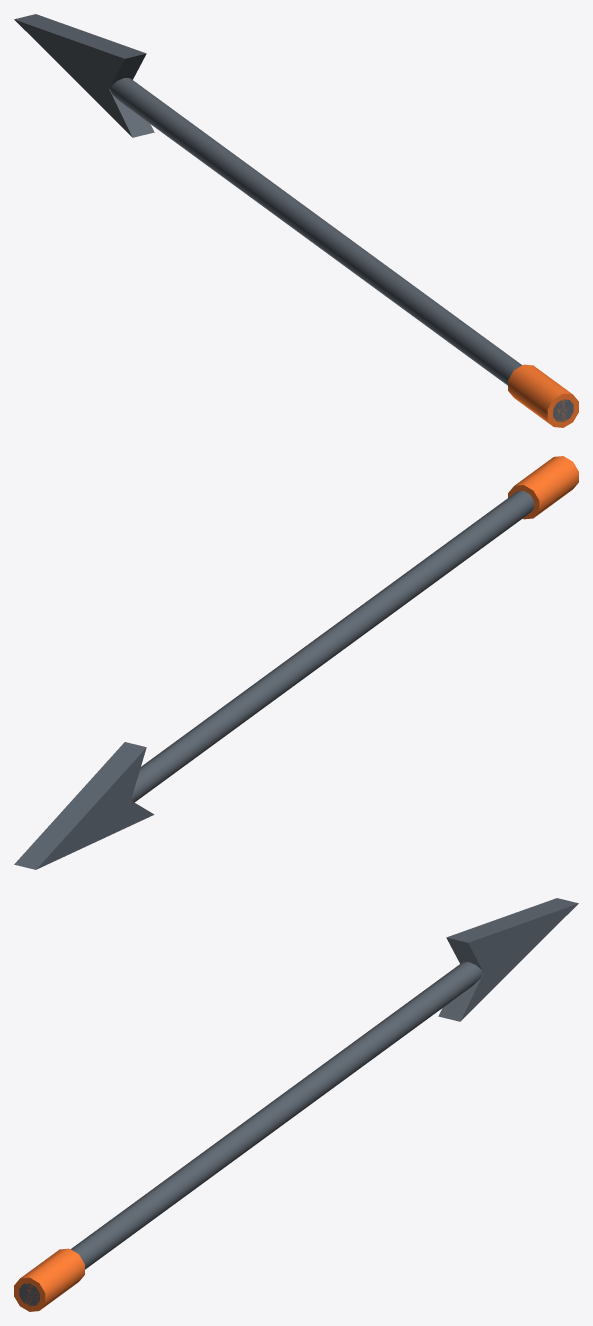
Rendered from harpoon.glb.
3 views of the same model, one above another, from view 1: azimuth 30°, elevation 25°; view 2: azimuth 150°, elevation 25°; view 3: azimuth 330°, elevation 25° (orthographic).
Visible parts, largest first — view 1: _MeshInstance3D_4459, _MeshInstance3D_4460, _MeshInstance3D_4461; view 2: _MeshInstance3D_4459, _MeshInstance3D_4460, _MeshInstance3D_4461; view 3: _MeshInstance3D_4459, _MeshInstance3D_4460, _MeshInstance3D_4461.
Boxes of the visible parts, bbox=[...] form: _MeshInstance3D_4459: bbox=[109, 78, 573, 422]; _MeshInstance3D_4460: bbox=[14, 14, 154, 137]; _MeshInstance3D_4461: bbox=[508, 364, 578, 427]; _MeshInstance3D_4459: bbox=[131, 490, 534, 802]; _MeshInstance3D_4460: bbox=[14, 742, 154, 869]; _MeshInstance3D_4461: bbox=[508, 456, 578, 519]; _MeshInstance3D_4459: bbox=[19, 962, 483, 1306]; _MeshInstance3D_4460: bbox=[438, 898, 578, 1021]; _MeshInstance3D_4461: bbox=[14, 1248, 84, 1311].
Bounding box in the file's own units: 0.0228 × 0.051 × 0.68.
